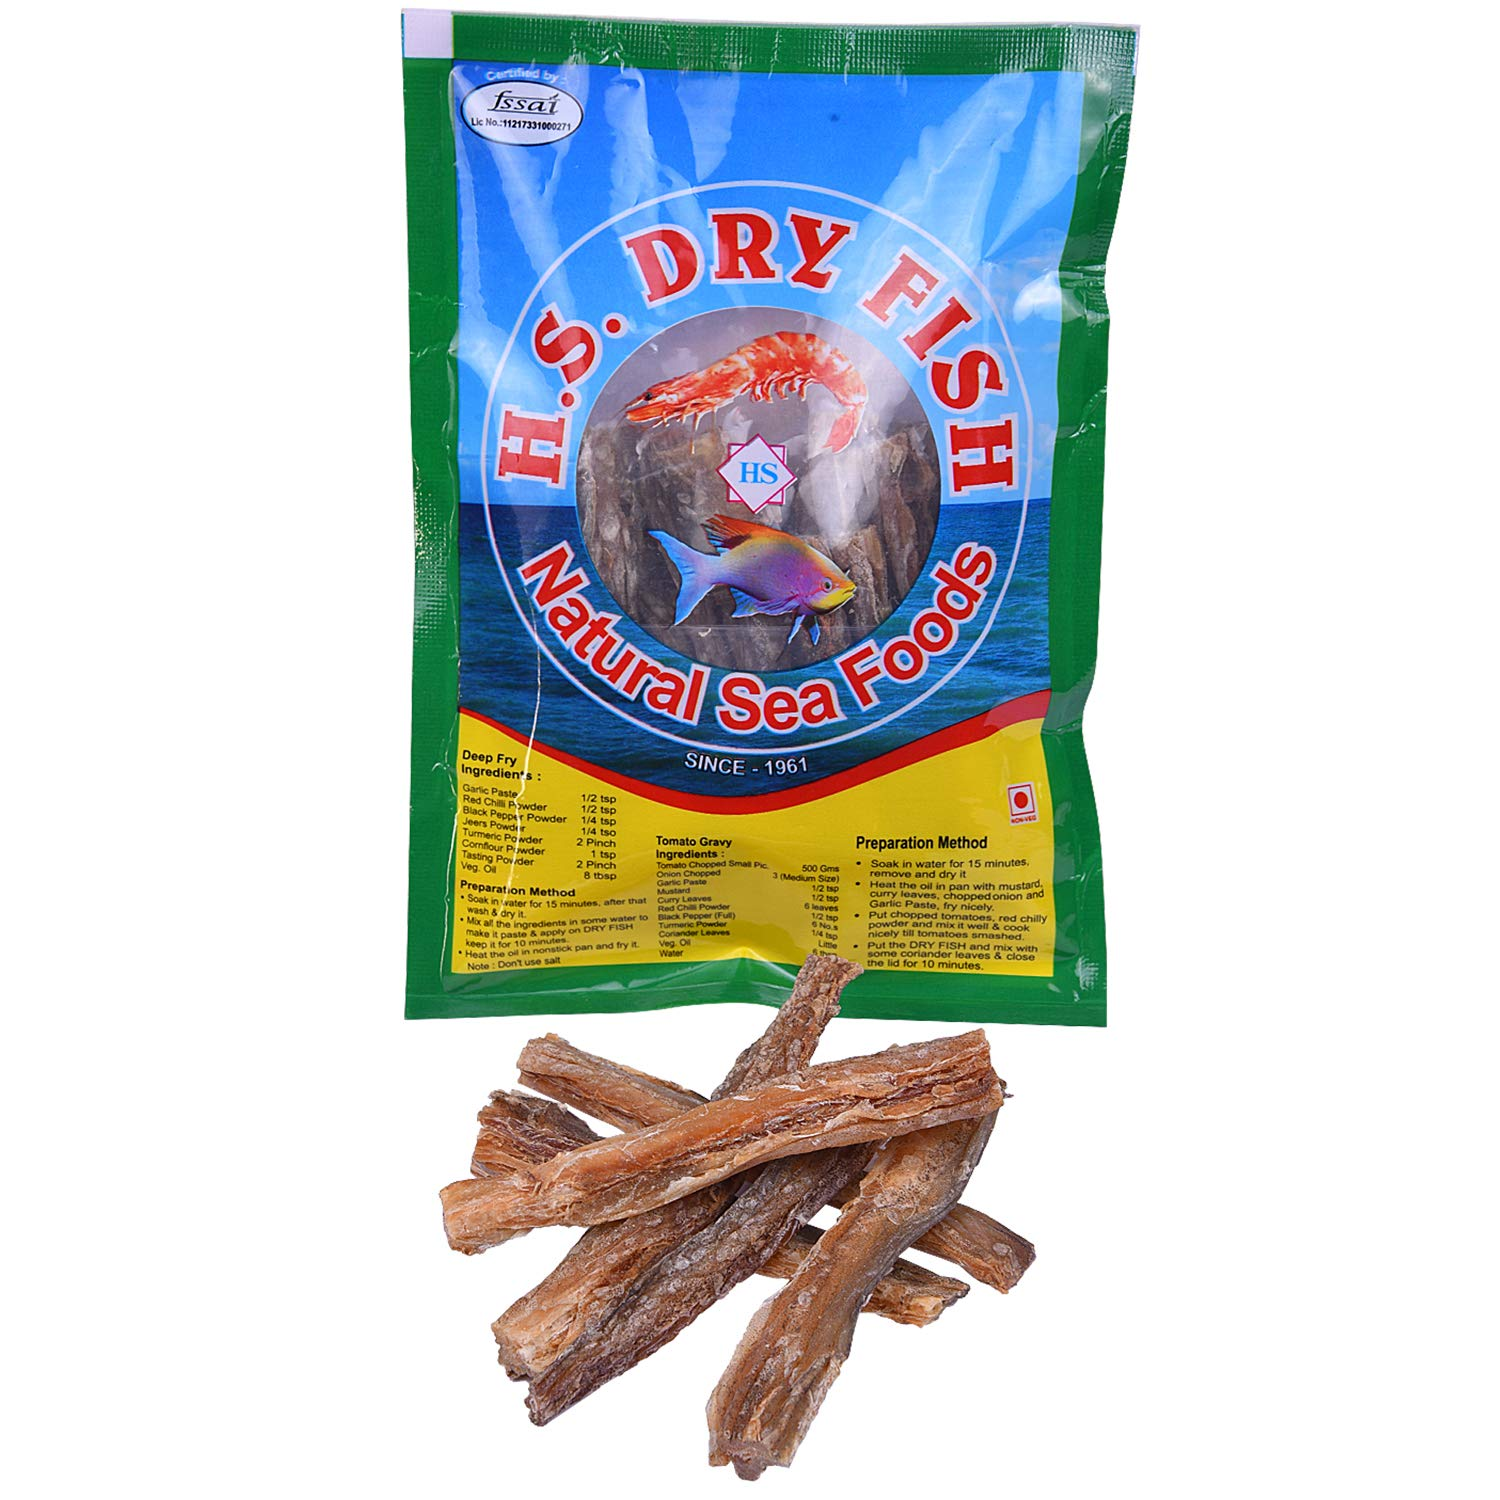nonveg_red: (1005, 783, 1037, 816)
